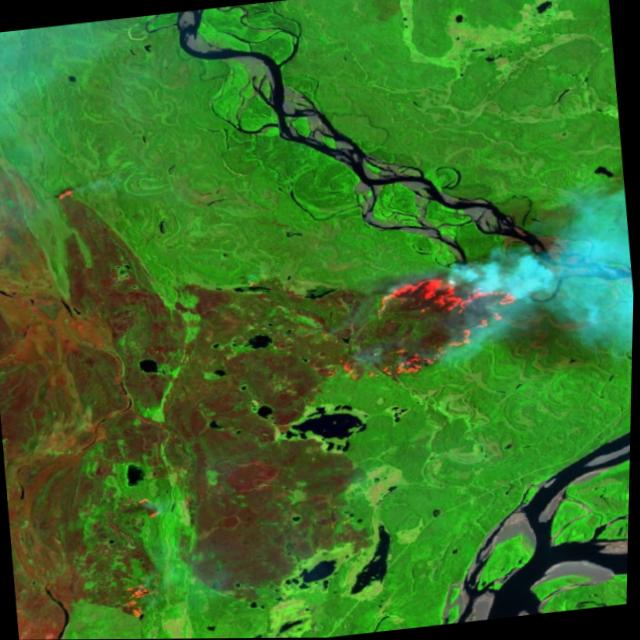fire: (320, 263, 545, 391), (99, 495, 174, 628), (43, 177, 90, 210)
